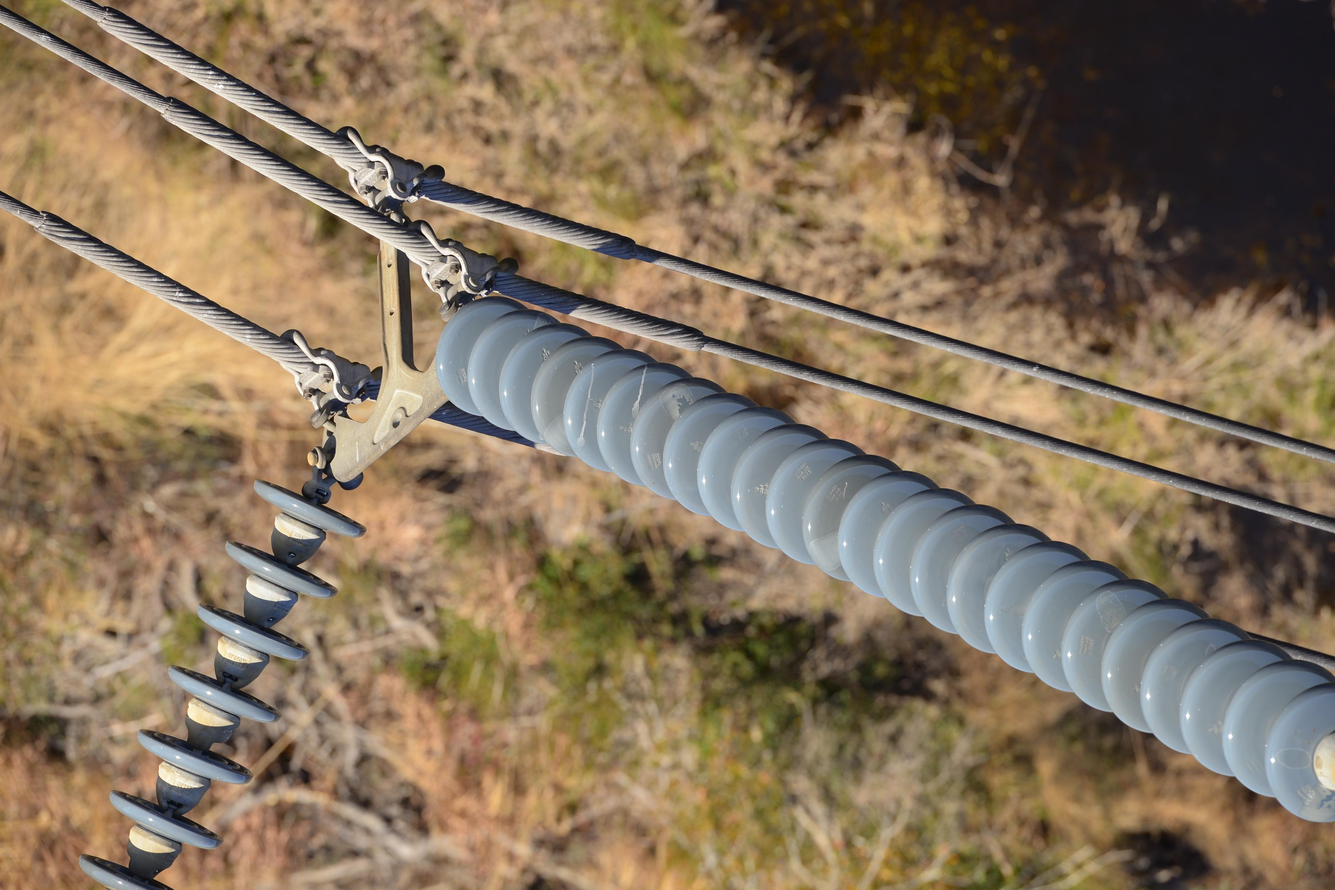Flashover: (807, 530, 850, 571), (1095, 587, 1131, 633), (1296, 782, 1335, 823), (543, 412, 579, 456), (658, 381, 699, 419), (1277, 743, 1315, 771)
insulator: (431, 296, 1335, 822), (79, 474, 366, 890)
